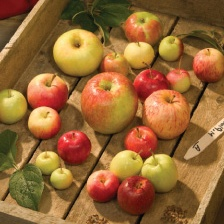apple: (80, 70, 140, 136), (142, 88, 189, 138), (52, 29, 103, 74), (25, 73, 70, 113), (141, 153, 181, 194), (114, 176, 157, 213), (121, 13, 163, 48), (190, 42, 224, 84), (56, 127, 93, 165), (26, 104, 62, 138), (123, 127, 159, 160), (134, 67, 167, 101), (111, 149, 144, 182), (87, 169, 119, 201), (1, 88, 27, 124), (99, 52, 133, 77), (123, 42, 154, 69), (157, 33, 184, 60), (48, 167, 73, 192), (35, 150, 59, 176), (167, 68, 195, 90)
